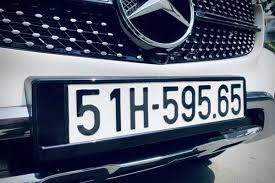Bien-so: (61, 79, 247, 147)
